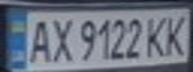1: (93, 16, 112, 61)
2: (124, 15, 148, 60), (109, 15, 130, 61)
9: (75, 15, 96, 62)
A: (24, 15, 54, 64)
K: (160, 11, 193, 57), (145, 12, 169, 59)
X: (48, 14, 75, 63)
